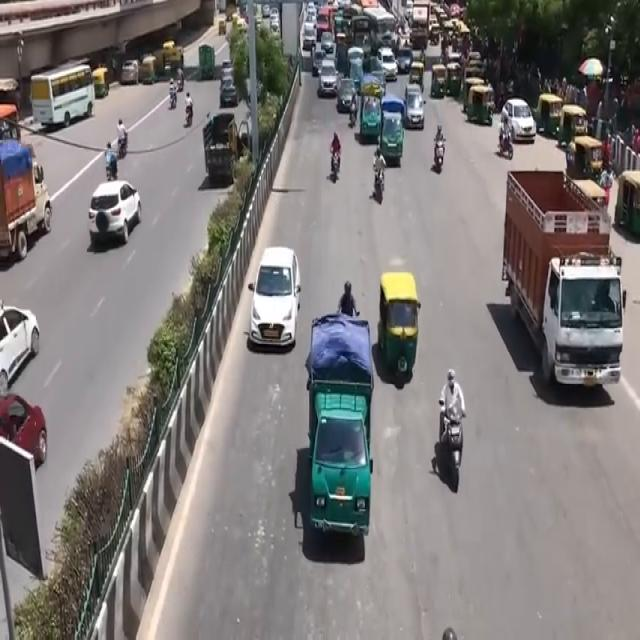BUS: (30, 61, 97, 130)
MOTORCYCLE: (442, 412, 463, 494), (376, 164, 388, 204), (435, 139, 445, 172)
TRUCK: (506, 174, 624, 400), (305, 312, 371, 557), (0, 144, 49, 273)
